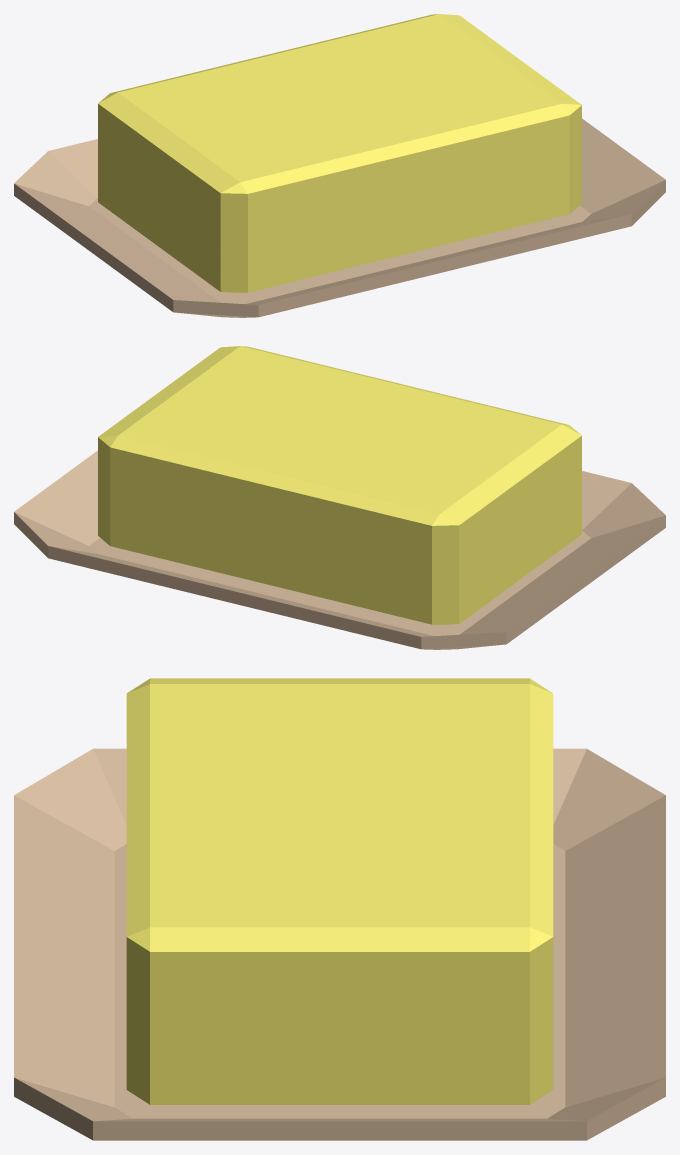
Rendered from Butter_01.fbx.
The picture shows the model from 3 angles, top to bottom: view 1: azimuth 30°, elevation 25°; view 2: azimuth 150°, elevation 25°; view 3: azimuth 270°, elevation 25°; orthographic projection. The views are drawn at different scales.
Parts seen in each view (by area): view 1: Butter_01; view 2: Butter_01; view 3: Butter_01.
Part boxes in pixels (x1,y1,x2,y2): Butter_01: [14, 14, 665, 317]; Butter_01: [14, 346, 665, 649]; Butter_01: [14, 678, 665, 1140].
Size of the model in its own units: 22.18 by 5.39 by 16.41.
